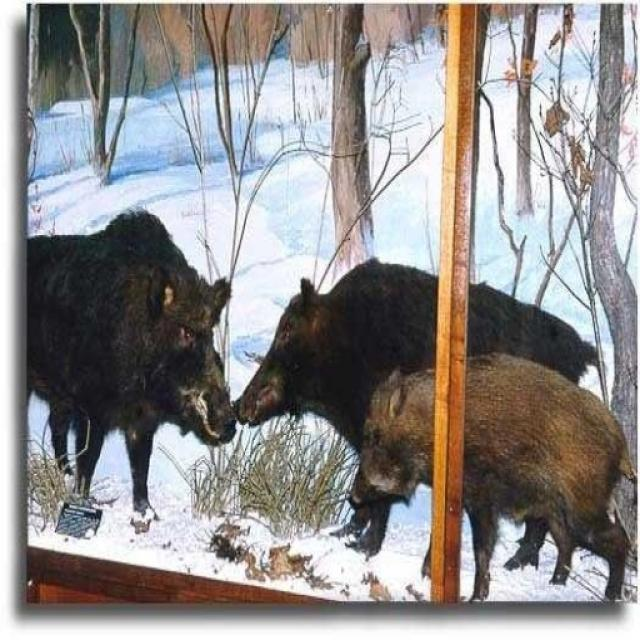pig: (232, 170, 630, 526), (35, 155, 247, 558), (334, 318, 640, 590)
